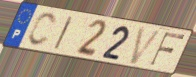2: (74, 19, 108, 59), (98, 23, 132, 62)
C: (26, 12, 57, 48)
F: (147, 32, 187, 68)
I: (52, 15, 76, 52)
V: (127, 26, 164, 66)
